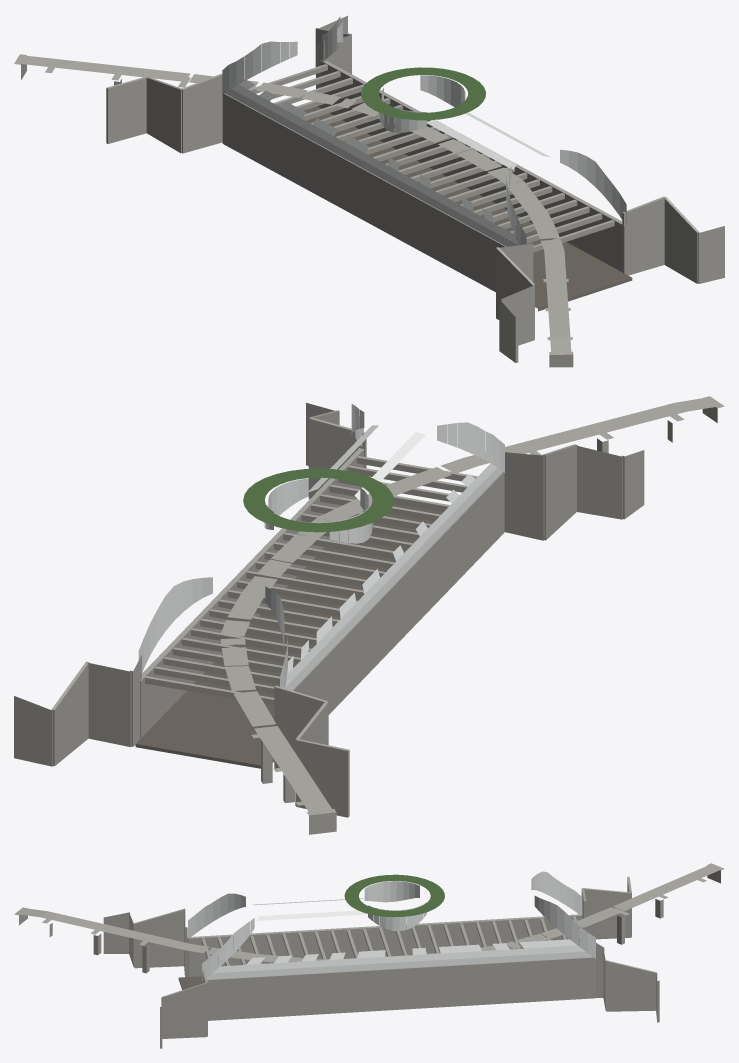
Rendered from br_h30_whitemud_arch_lod1.gltf.
3 renders of one model, top to bottom at view 1: azimuth 30°, elevation 25°; view 2: azimuth 150°, elevation 25°; view 3: azimuth 270°, elevation 25°, orthographic. The views are drawn at different scales.
Parts seen in each view (by area): view 1: br_h30_whitemud_arch_lod1; view 2: br_h30_whitemud_arch_lod1; view 3: br_h30_whitemud_arch_lod1.
Boxes of the visible parts, x1=… form: br_h30_whitemud_arch_lod1: x1=14, y1=15, x2=724, y2=367; br_h30_whitemud_arch_lod1: x1=14, y1=396, x2=724, y2=834; br_h30_whitemud_arch_lod1: x1=14, y1=863, x2=724, y2=1048.
Bounding box in the file's own units: 71.03 × 21.4 × 148.
